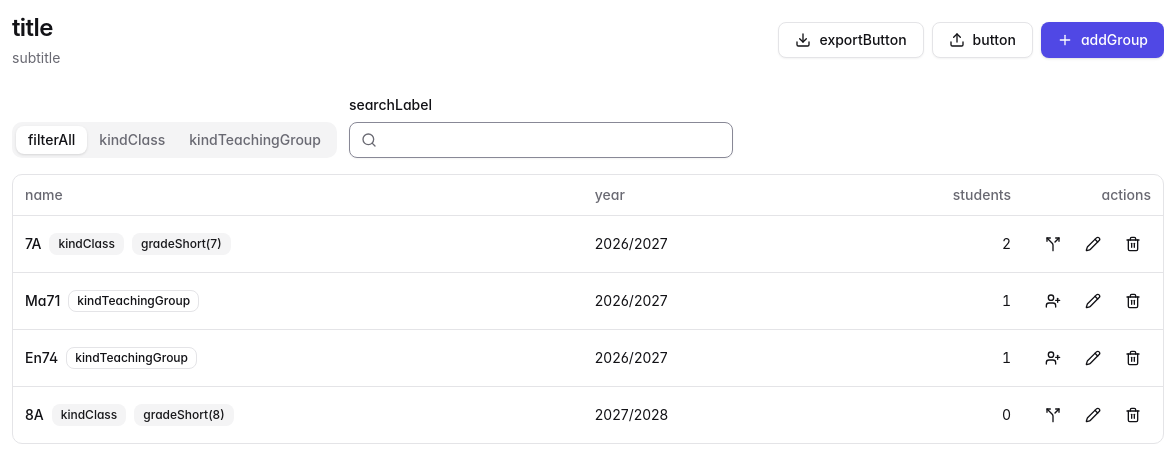
Test case: Groups page › says so when nothing matches
Type "finns inte" into the search field labelled "searchLabel" at (541, 140), box x1=349 y1=122 x2=733 y2=158
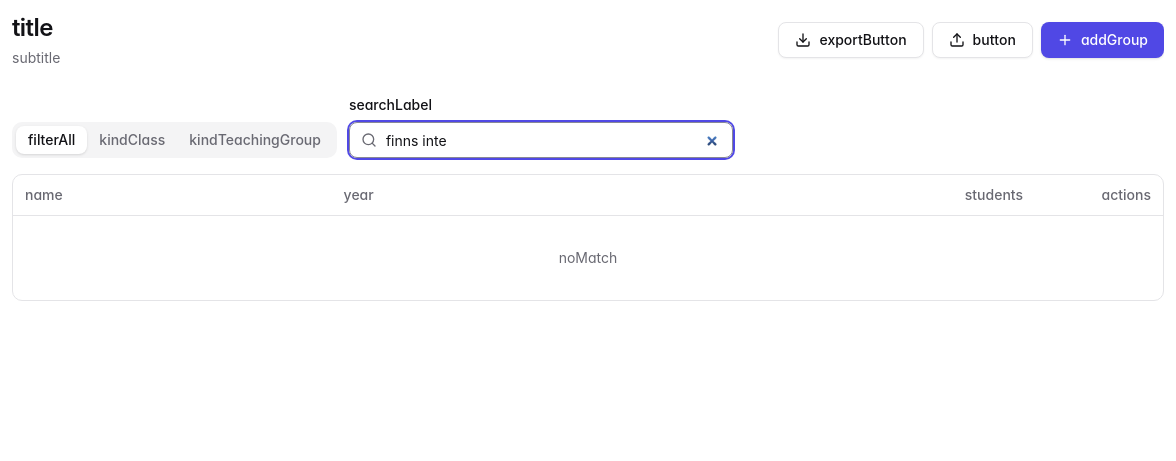
Result: the text "noMatch" is shown at x1=13 y1=216 x2=1163 y2=300
